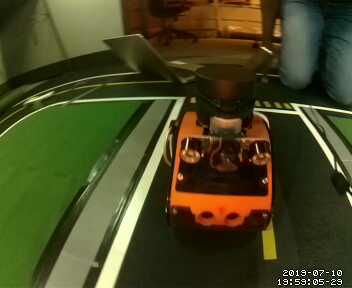pheeno: (166, 64, 274, 233)
